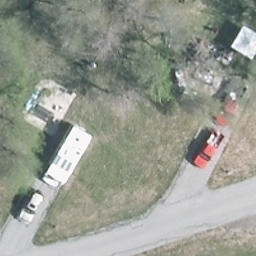camping car: (44, 123, 94, 191)
car: (212, 92, 248, 133), (17, 190, 44, 224)
pickup: (194, 130, 223, 170)
